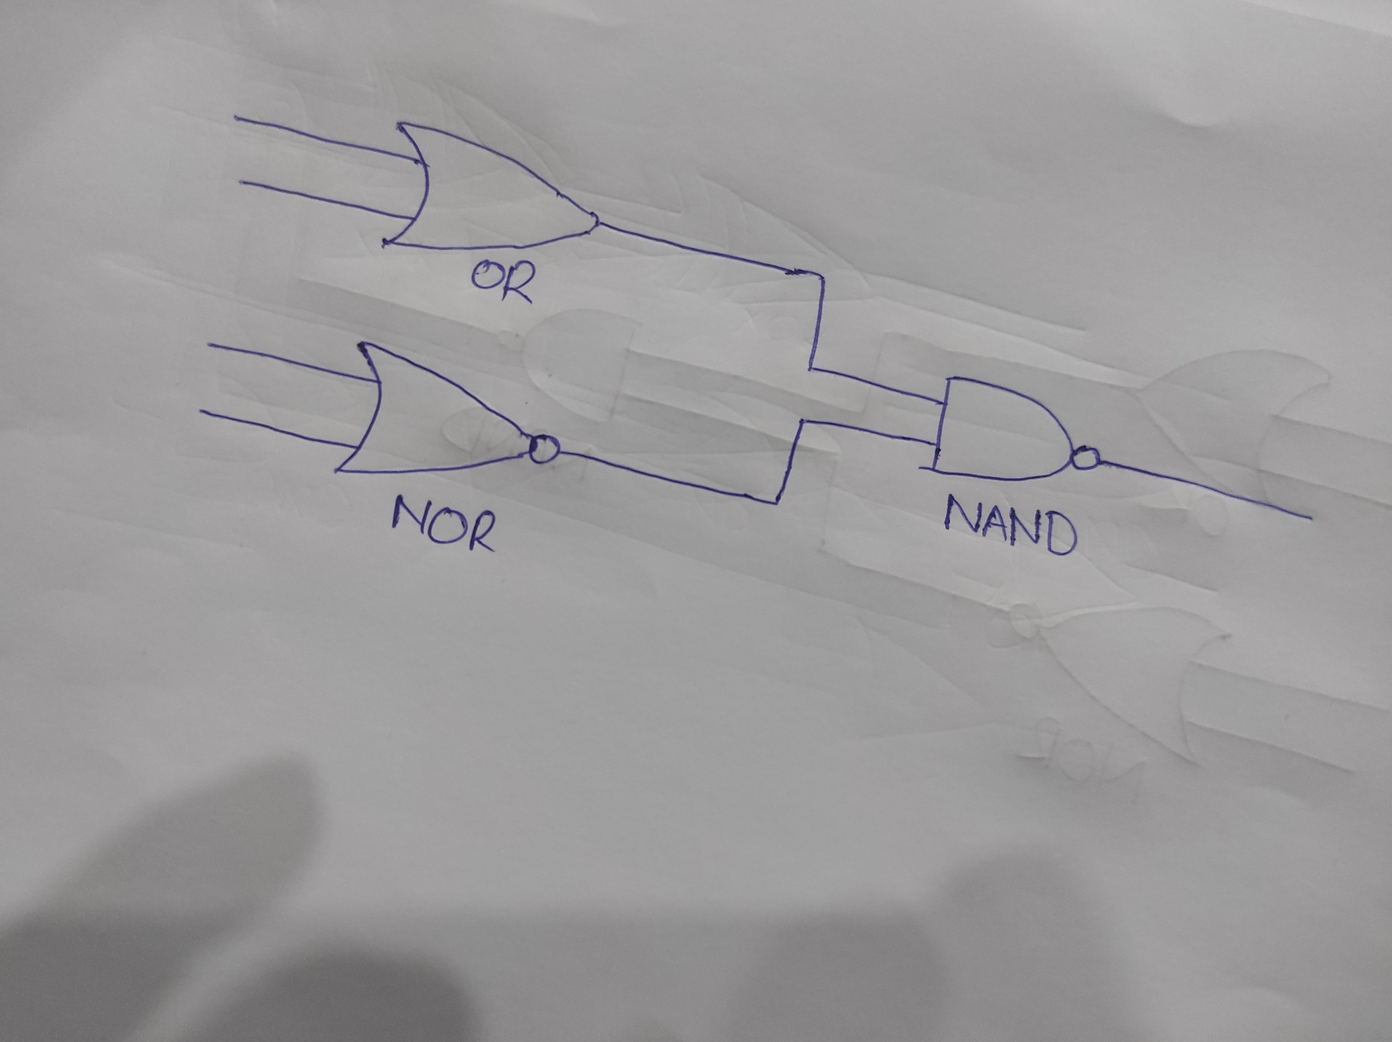junction: (807, 265, 830, 289), (767, 490, 788, 513), (791, 410, 813, 431), (800, 359, 819, 377)
nand: (915, 373, 1106, 486)
nor: (328, 337, 565, 479)
or: (378, 118, 604, 255)
terminal: (192, 402, 218, 425), (227, 107, 250, 129), (1297, 506, 1320, 526), (199, 336, 221, 355), (232, 173, 252, 190)
text: (938, 493, 1082, 559), (391, 493, 501, 554), (468, 254, 542, 304)
